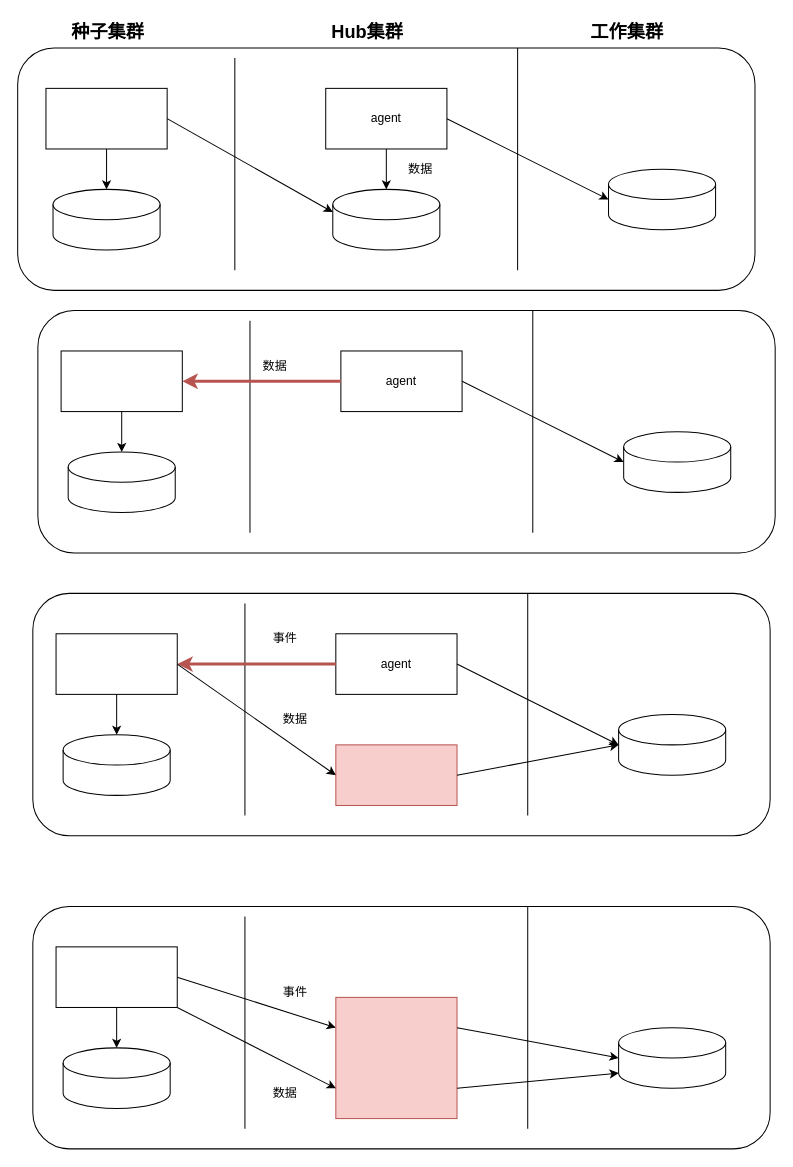
Image size: 793x1167. Some labels were removed from this diagram. The shapes that lost their labels are listed below. From the top down, each one's centre as x and y in pixels, then its label:
the point at 396,774: 代理
the point at 396,1057: 代理:网络
